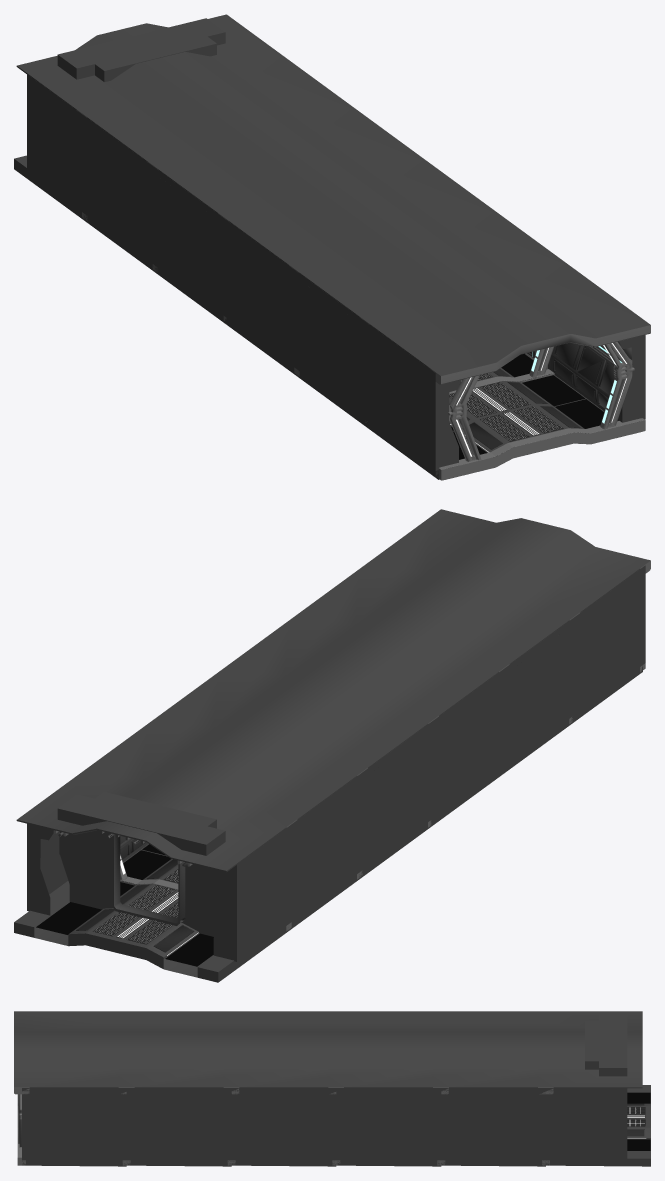
The model's file is scifi-hallway-edited-2-transformed-compressed.glb.
3 views of the same model, one above another, from view 1: azimuth 30°, elevation 25°; view 2: azimuth 150°, elevation 25°; view 3: azimuth 270°, elevation 25° (orthographic). The views are drawn at different scales.
Parts seen in each view (by area): view 1: Object_4, Object_5; view 2: Object_4; view 3: Object_4.
Part boxes in pixels (x1,y1,x2,y2): Object_4: (14, 14, 650, 480); Object_5: (450, 343, 626, 456); Object_4: (14, 509, 650, 982); Object_4: (14, 1011, 650, 1166).
Bounding box in the file's own units: 10.29 × 5.59 × 36.45.
3 materials, 3 textured.
